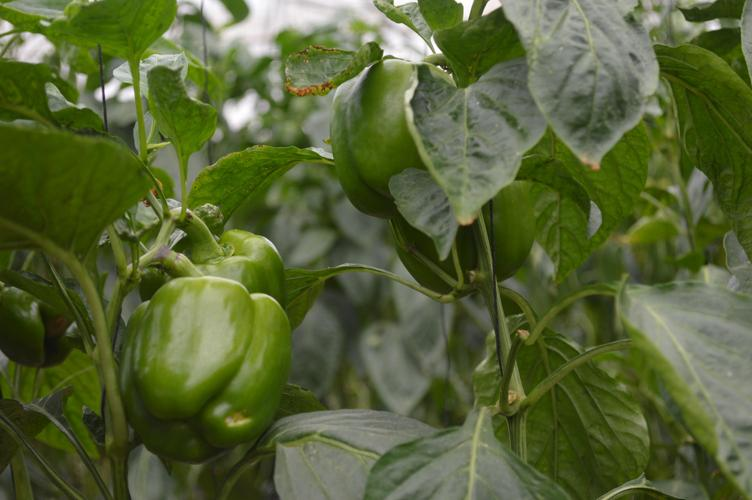BellPepper: (118, 279, 285, 447), (323, 59, 448, 212), (399, 179, 541, 293), (137, 229, 296, 304), (9, 291, 82, 363)
